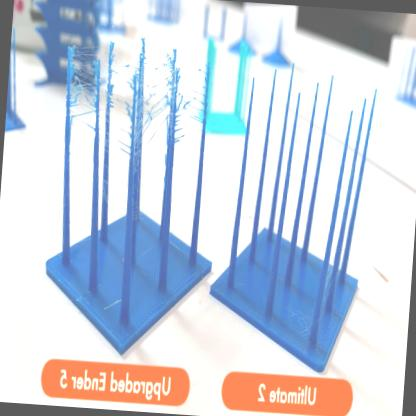fail: (57, 37, 212, 160)
